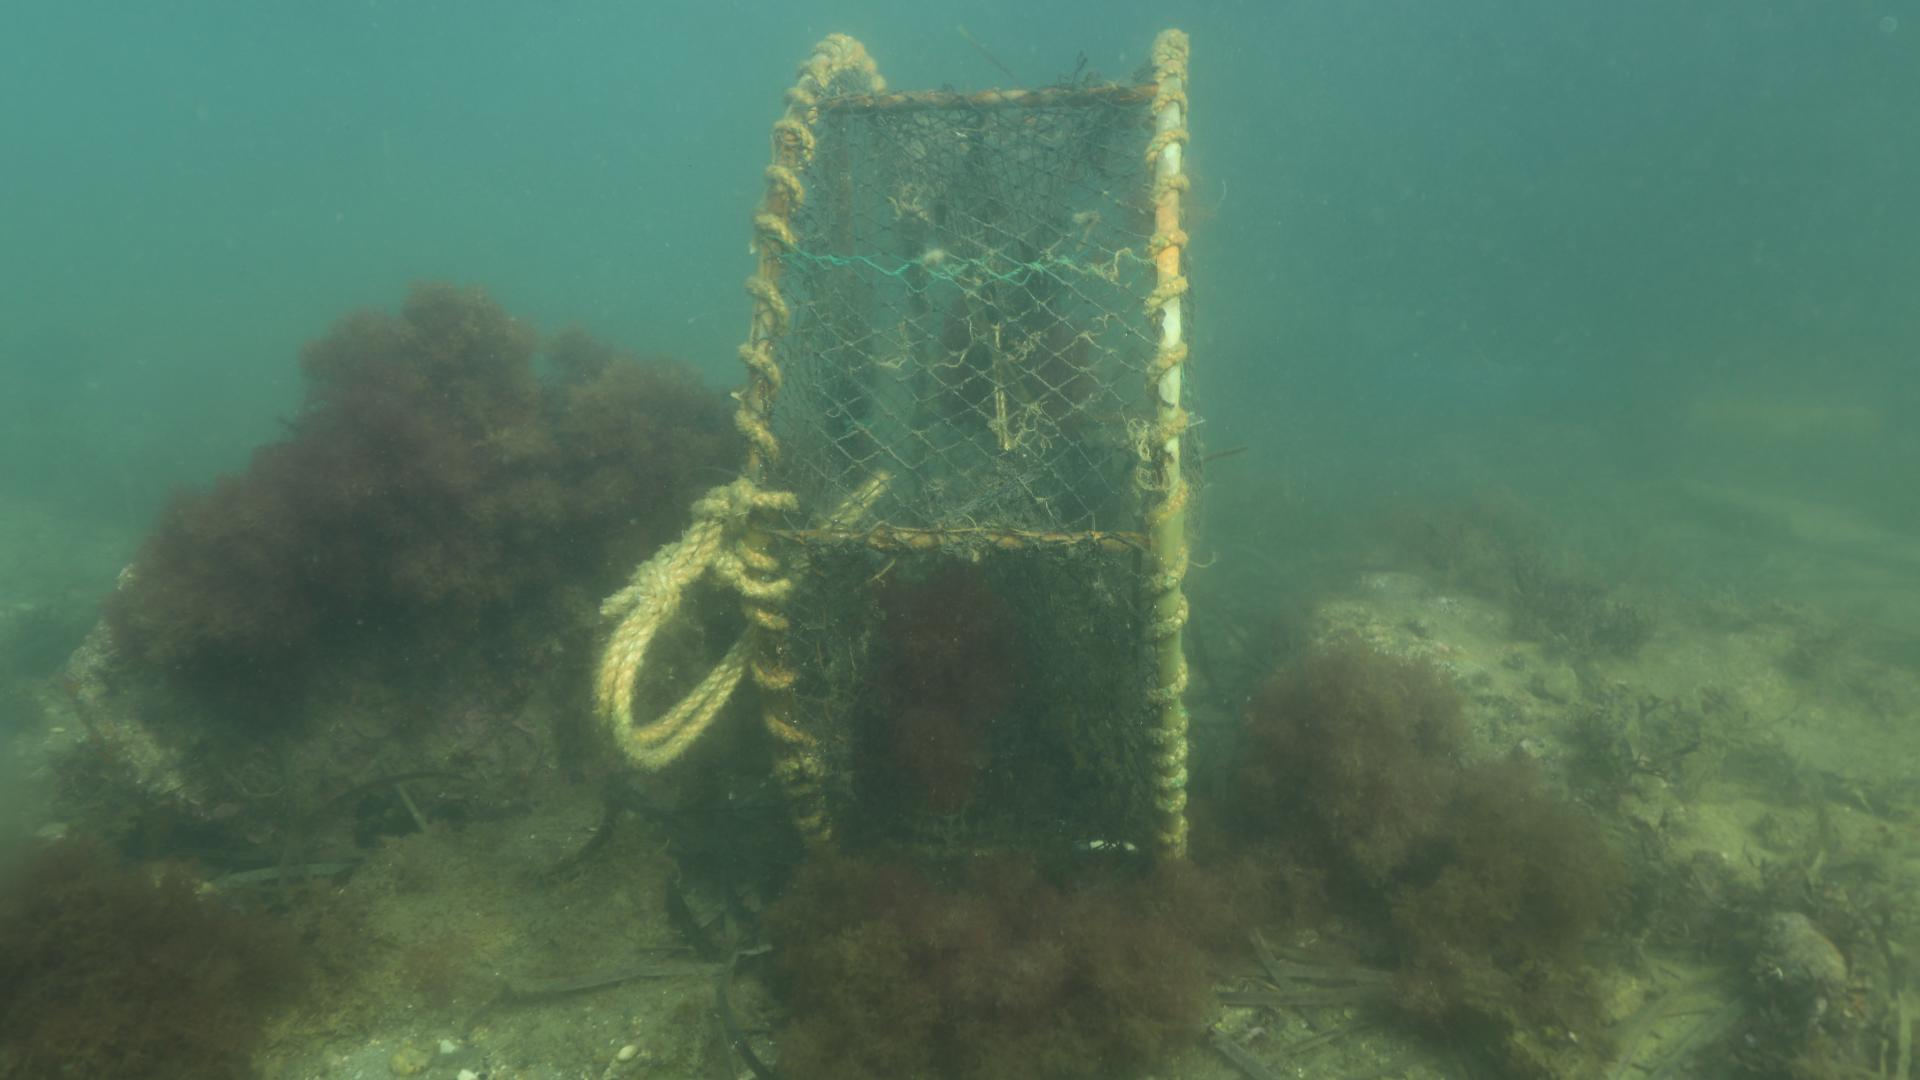bundle of ropes: (583, 479, 738, 778)
circular fish trap: (738, 25, 1196, 872)
